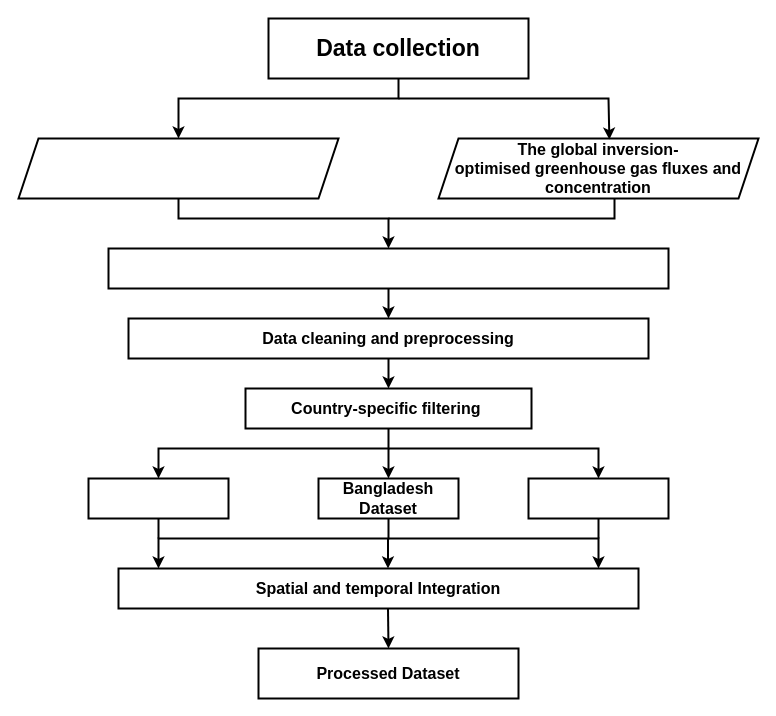
Some shapes in this 776 by 716 pixel diagram are drawn without their labels. The shapes that lost their labels are listed below. From the top down, each one's centre as x and y in pixels, then its label:
point 178,168: The global greenhouse gas reanalysis (EGG4
point 388,268: Standardisation of Data format
point 158,498: Indian Dataset
point 598,498: Vietnam Dataset
